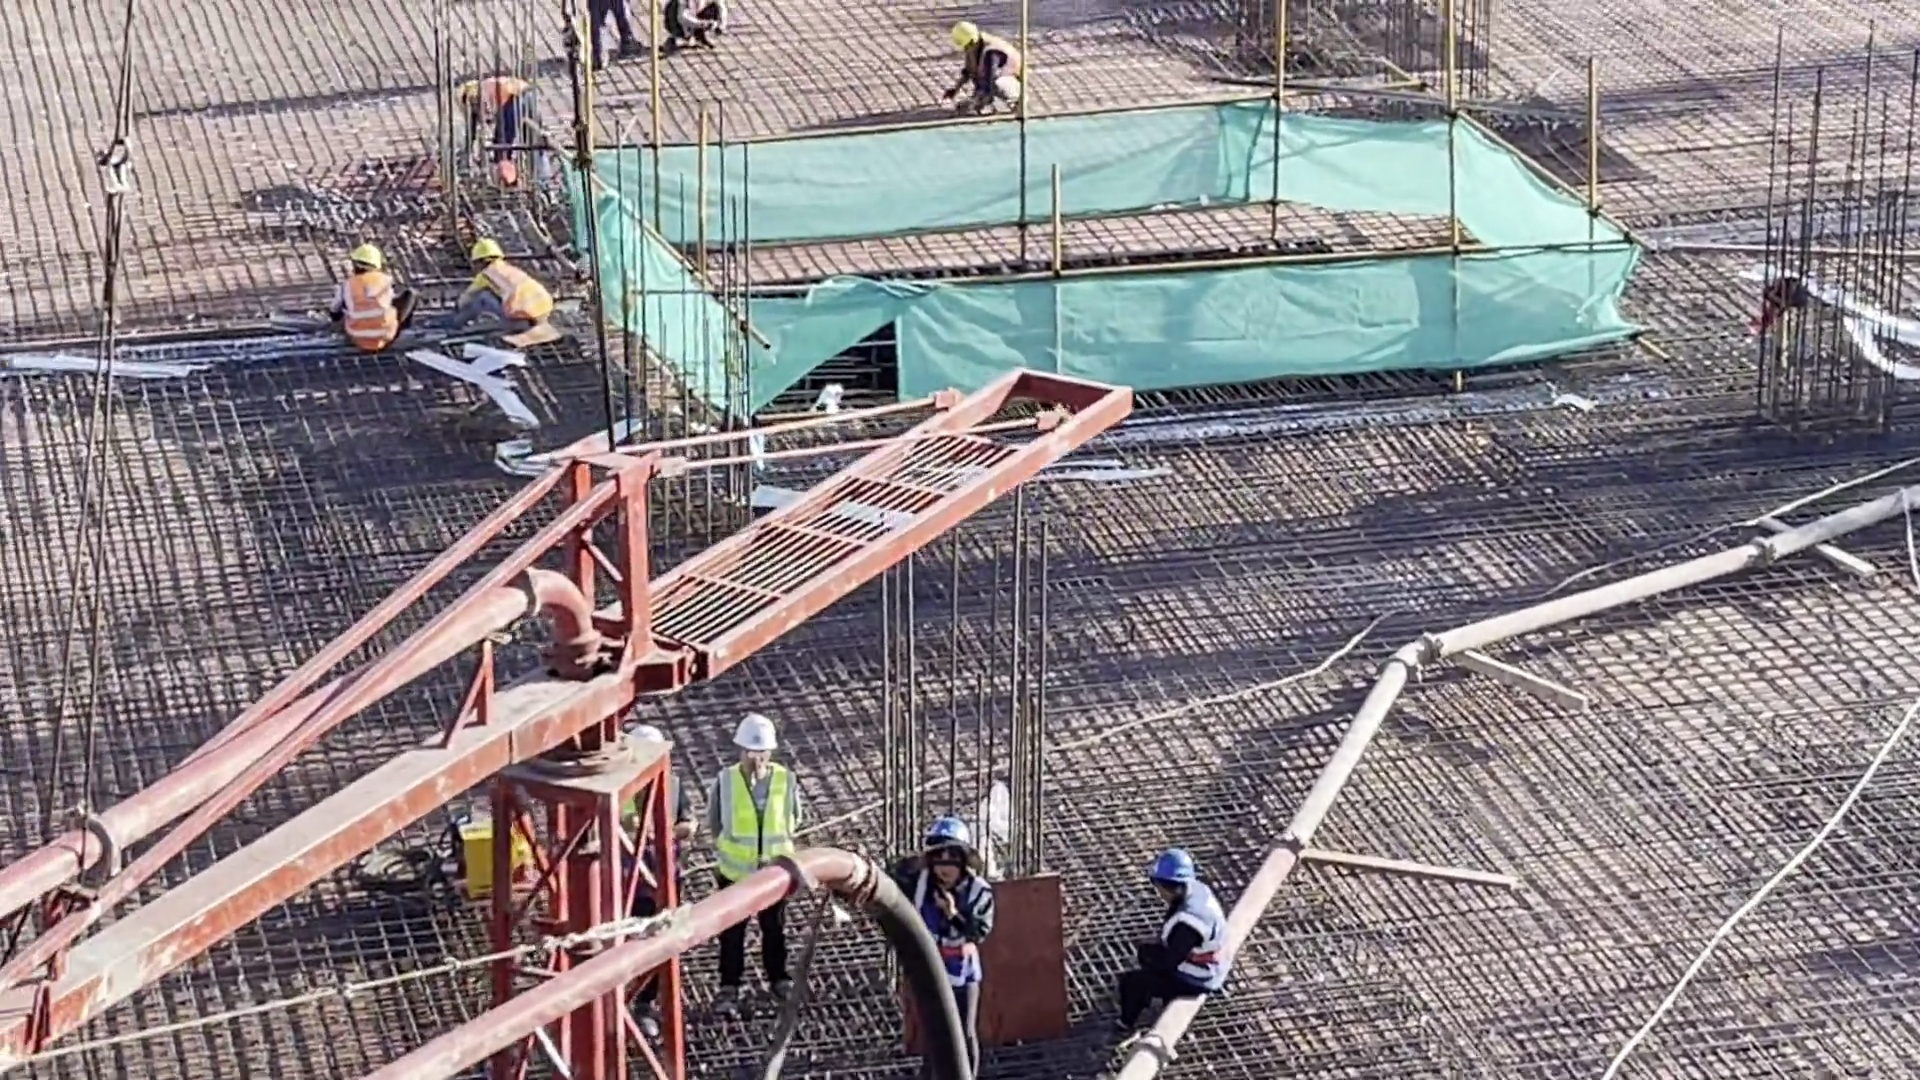helmet: (738, 714, 785, 755), (346, 236, 384, 272), (927, 820, 980, 845), (1158, 855, 1198, 882), (947, 24, 985, 44), (473, 245, 503, 263), (457, 74, 473, 102)
person: (891, 815, 1007, 1080), (707, 712, 804, 1013), (1122, 860, 1247, 1016), (436, 74, 547, 201), (321, 238, 418, 355), (436, 242, 551, 334), (940, 22, 1030, 115), (571, 1, 660, 65), (665, 1, 738, 54)
vest: (721, 774, 792, 883), (917, 876, 984, 980), (1160, 896, 1230, 992), (480, 265, 548, 321), (344, 279, 396, 349), (478, 80, 524, 111)
